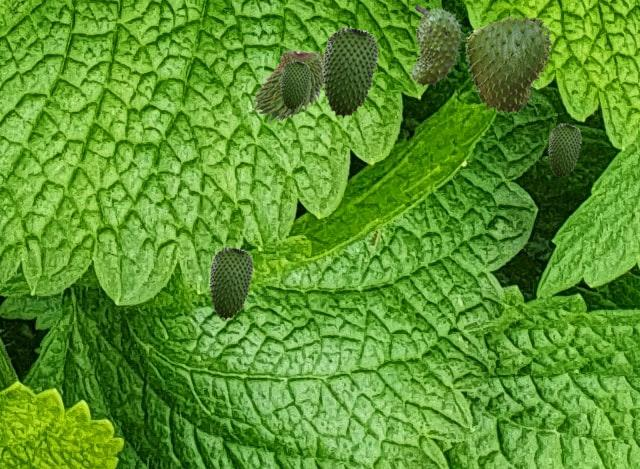guyabano: (465, 14, 553, 115), (252, 47, 323, 120), (322, 26, 377, 117), (409, 5, 465, 87), (209, 246, 252, 319), (548, 123, 580, 177), (280, 60, 309, 109)
